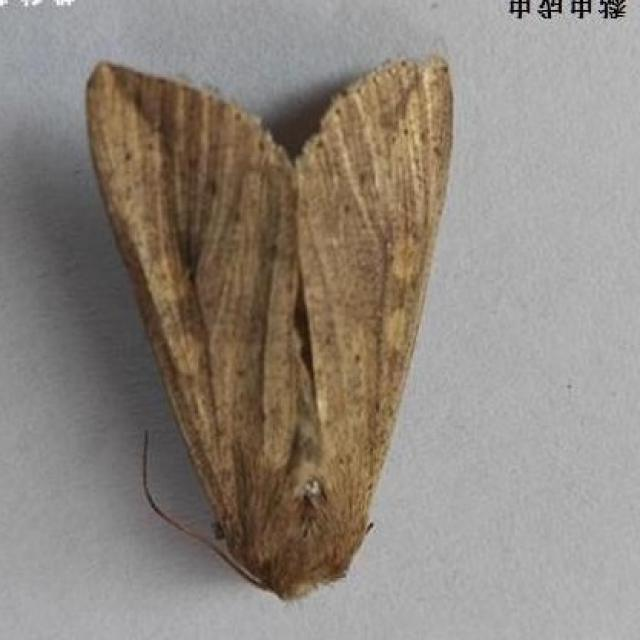army worm: (46, 36, 459, 614)
